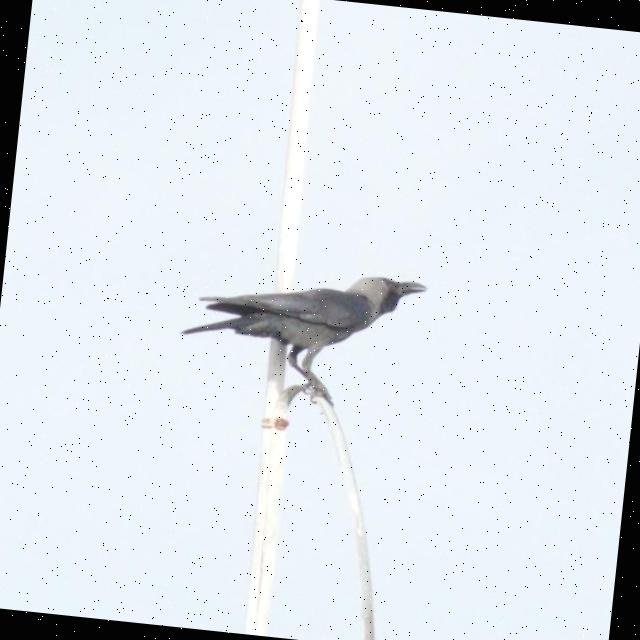crow: (165, 249, 432, 418)
